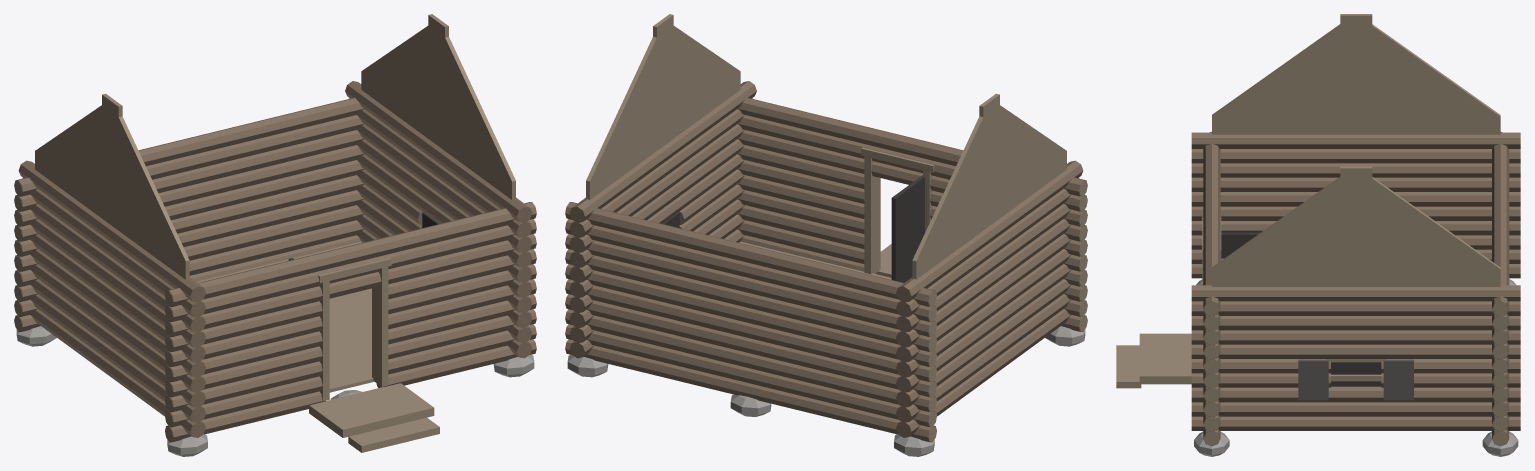
The model's file is IzbaWalls.fbx.
The picture shows the model from 3 angles, left to right: view 1: azimuth 30°, elevation 25°; view 2: azimuth 150°, elevation 25°; view 3: azimuth 270°, elevation 25°; orthographic projection. The views are drawn at different scales.
Visible parts, largest first — view 1: IzbaWalls; view 2: IzbaWalls; view 3: IzbaWalls.
Boxes of the visible parts, x1,y1,x2,y2 form: IzbaWalls: (14,14,536,456); IzbaWalls: (565,14,1087,456); IzbaWalls: (1116,14,1520,456).
Size of the model in its own units: 559 by 437 by 561.
